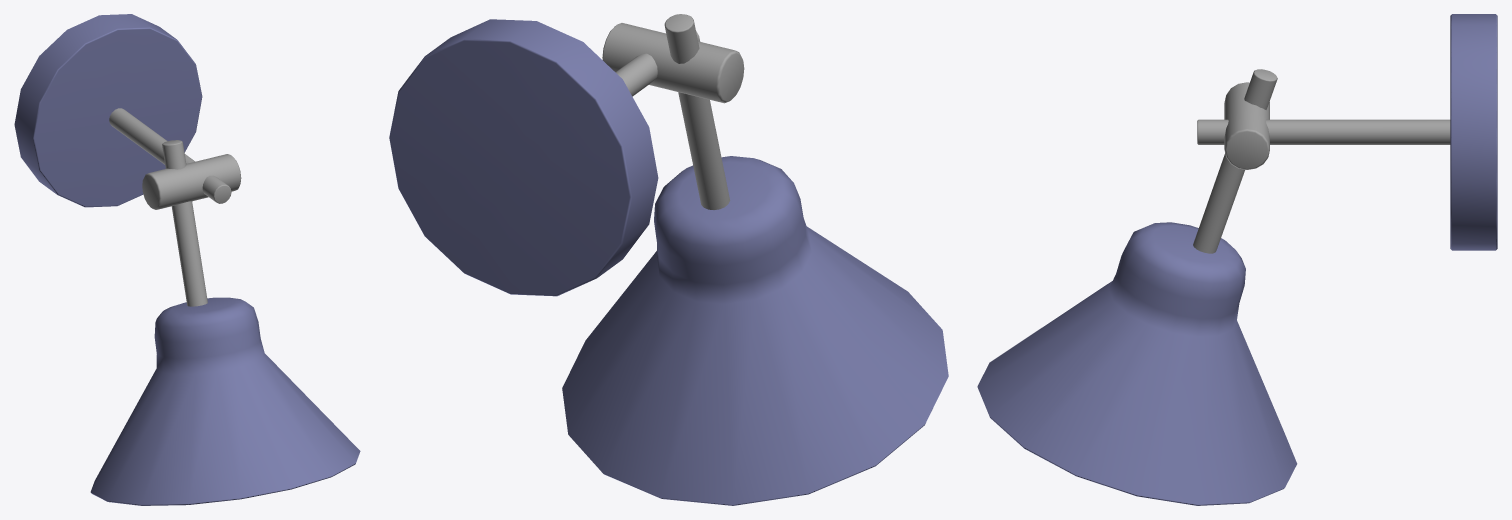
The model's file is Lamp_3.glb.
3 renders of one model, left to right at view 1: azimuth 30°, elevation 25°; view 2: azimuth 150°, elevation 25°; view 3: azimuth 270°, elevation 25°, orthographic. The views are drawn at different scales.
Parts seen in each view (by area): view 1: Lamp_8; view 2: Lamp_8; view 3: Lamp_8.
Boxes of the visible parts, x1,y1,x2,y2 form: Lamp_8: (14,14,360,505); Lamp_8: (389,14,948,505); Lamp_8: (977,14,1497,505).
Size of the model in its own units: 0.4468 by 0.6755 by 0.702.
Materials: 2 (1 with a texture image).
